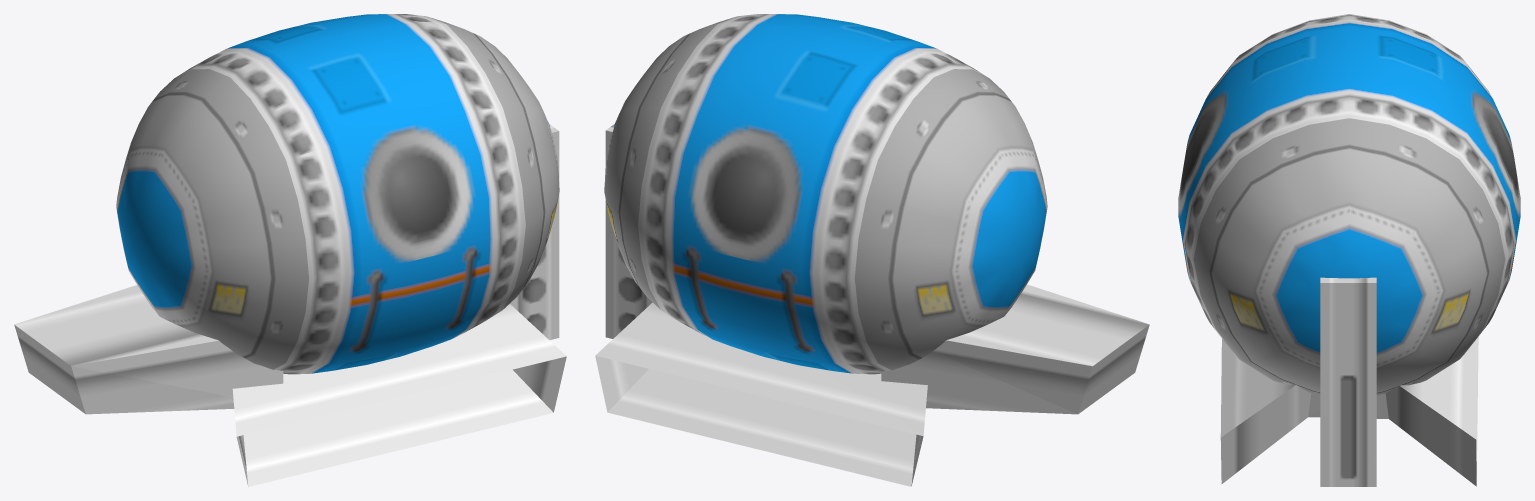
The model's file is subm1.obj.
3 renders of one model, left to right at view 1: azimuth 30°, elevation 25°; view 2: azimuth 150°, elevation 25°; view 3: azimuth 270°, elevation 25°, orthographic.
Visible parts, largest first — view 1: ColobotMesh_1.001_ColobotMesh_.001, ColobotMesh_1.002_ColobotMesh_.002, ColobotMesh_1_ColobotMesh_, ColobotMesh_1.003_ColobotMesh_.003; view 2: ColobotMesh_1.001_ColobotMesh_.001, ColobotMesh_1.002_ColobotMesh_.002, ColobotMesh_1_ColobotMesh_, ColobotMesh_1.003_ColobotMesh_.003; view 3: ColobotMesh_1.001_ColobotMesh_.001, ColobotMesh_1.002_ColobotMesh_.002, ColobotMesh_1.003_ColobotMesh_.003.
Boxes of the visible parts, x1,y1,x2,y2 form: ColobotMesh_1.001_ColobotMesh_.001: (116, 14, 559, 374); ColobotMesh_1.002_ColobotMesh_.002: (232, 304, 566, 486); ColobotMesh_1_ColobotMesh_: (14, 285, 283, 414); ColobotMesh_1.003_ColobotMesh_.003: (510, 124, 559, 340); ColobotMesh_1.001_ColobotMesh_.001: (604, 14, 1047, 374); ColobotMesh_1.002_ColobotMesh_.002: (595, 302, 927, 486); ColobotMesh_1_ColobotMesh_: (881, 284, 1149, 414); ColobotMesh_1.003_ColobotMesh_.003: (605, 124, 652, 338); ColobotMesh_1.001_ColobotMesh_.001: (1178, 14, 1520, 394); ColobotMesh_1.002_ColobotMesh_.002: (1220, 336, 1478, 486); ColobotMesh_1.003_ColobotMesh_.003: (1320, 277, 1376, 486).
Size of the model in its own units: 10.15 by 7.08 by 6.09.
